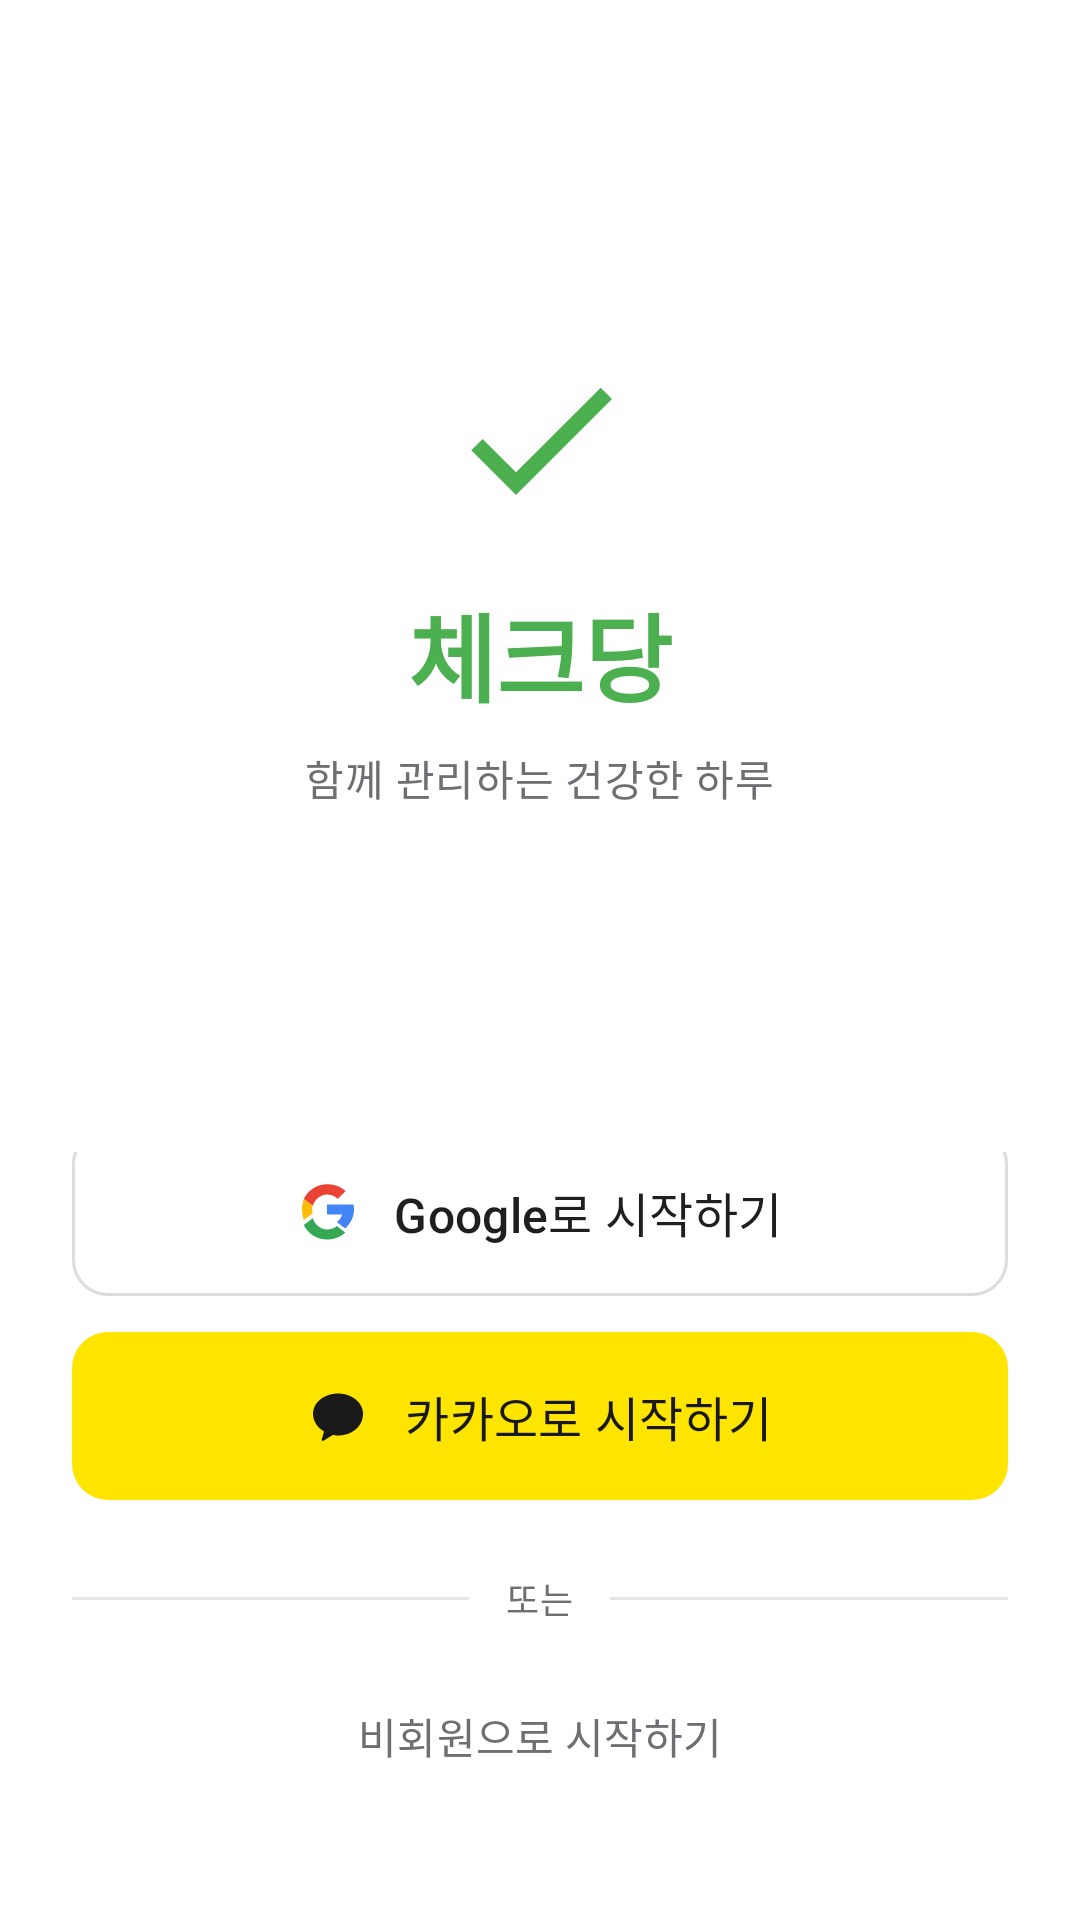

Screen size 1080x1920. Icon name, then its box in pixels as bbox=[x1, y1, x2, y2]:
check: bbox=[471, 388, 612, 495]
